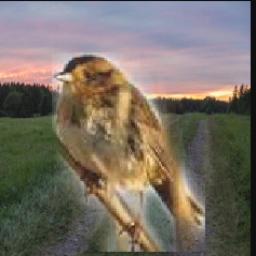Sparrow: (52, 52, 205, 252)
